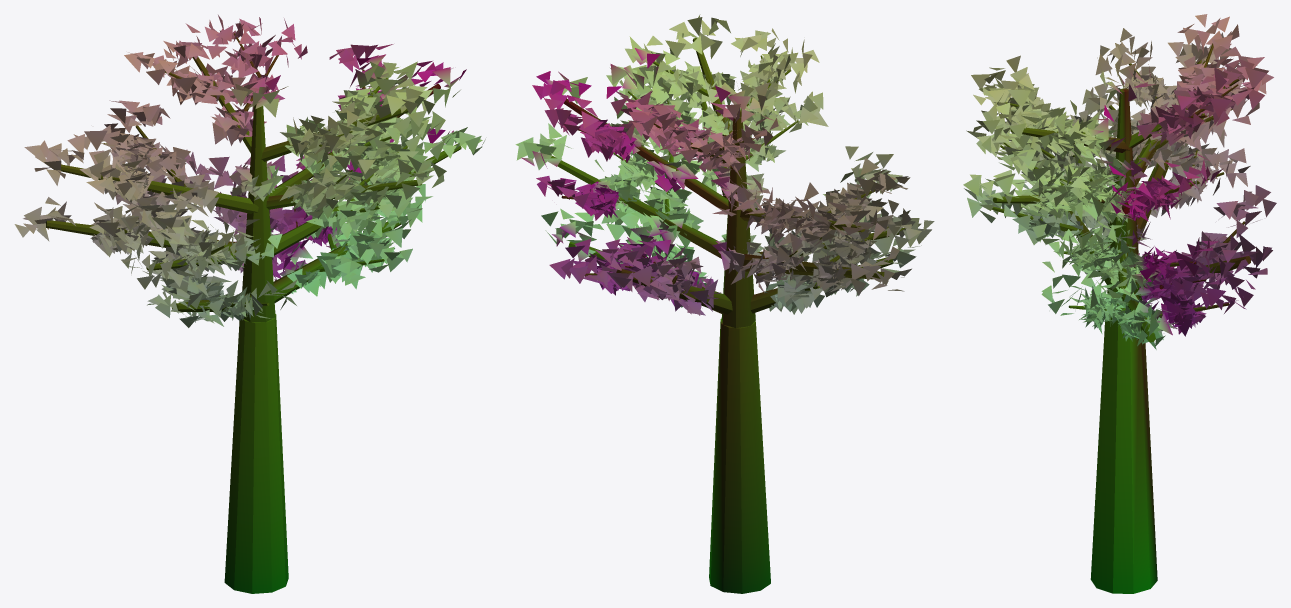
File: ecological_savanna_mature_02.glb
3 views of the same model, side by side, from view 1: azimuth 30°, elevation 25°; view 2: azimuth 150°, elevation 25°; view 3: azimuth 270°, elevation 25° (orthographic). The views are drawn at different scales.
Parts seen in each view (by area): view 1: ecological_savanna_mature_02; view 2: ecological_savanna_mature_02; view 3: ecological_savanna_mature_02.
Boxes of the visible parts, x1=… form: ecological_savanna_mature_02: x1=14, y1=15, x2=485, y2=593; ecological_savanna_mature_02: x1=515, y1=14, x2=934, y2=593; ecological_savanna_mature_02: x1=963, y1=14, x2=1276, y2=593.
Size of the model in its own units: 27.49 by 31.75 by 16.89.
